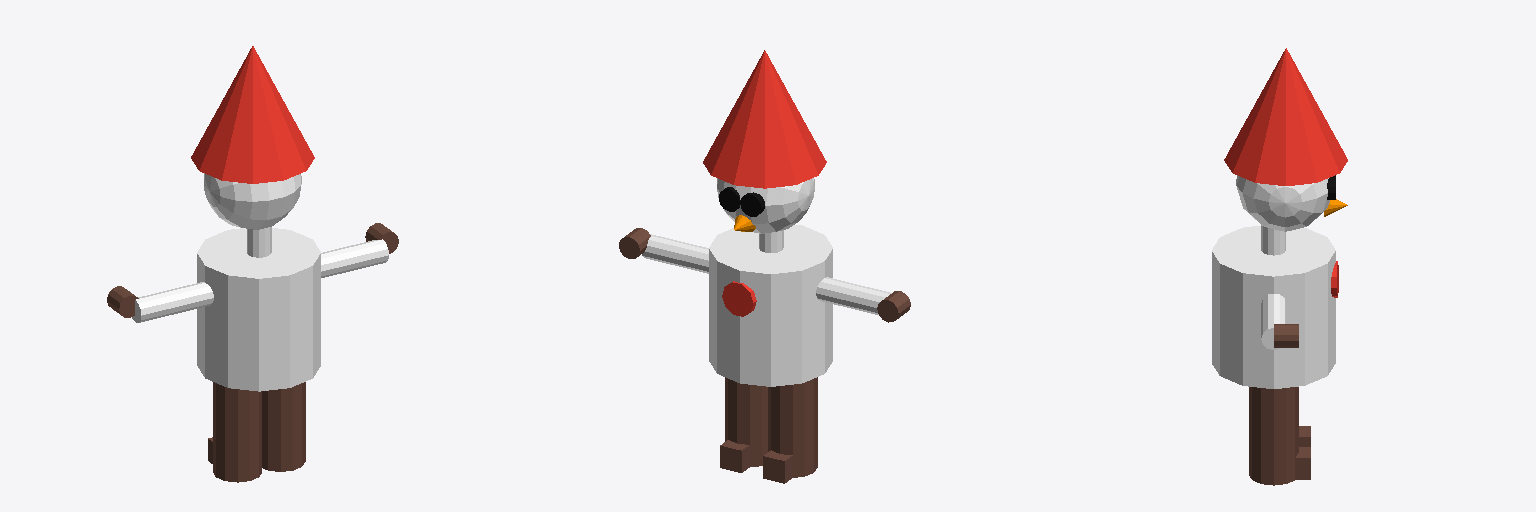
The picture shows the model from 3 angles: view 1: azimuth 30°, elevation 25°; view 2: azimuth 150°, elevation 25°; view 3: azimuth 270°, elevation 25°; orthographic projection.
Visible parts, largest first — view 1: group[number redacted], group[number redacted], group[number redacted], group[number redacted], group[number redacted], group[number redacted], group[number redacted], group[number redacted], group[number redacted], group[number redacted]; view 2: group[number redacted], group[number redacted], group[number redacted], group[number redacted], group[number redacted], group[number redacted], group[number redacted], group[number redacted], group[number redacted], group[number redacted], group[number redacted], group[number redacted]; view 3: group[number redacted], group[number redacted], group[number redacted], group[number redacted], group[number redacted], group[number redacted], group[number redacted].
Part boxes in pixels (bbox=[...]): group[number redacted]: bbox=[197, 228, 320, 391]; group[number redacted]: bbox=[191, 46, 314, 183]; group[number redacted]: bbox=[213, 382, 261, 482]; group[number redacted]: bbox=[204, 173, 301, 229]; group[number redacted]: bbox=[262, 382, 305, 471]; group[number redacted]: bbox=[132, 282, 213, 322]; group[number redacted]: bbox=[321, 239, 388, 277]; group[number redacted]: bbox=[247, 227, 271, 257]; group[number redacted]: bbox=[107, 286, 138, 317]; group[number redacted]: bbox=[365, 223, 398, 253]; group[number redacted]: bbox=[709, 225, 832, 386]; group[number redacted]: bbox=[703, 50, 826, 188]; group[number redacted]: bbox=[768, 377, 817, 477]; group[number redacted]: bbox=[725, 377, 767, 466]; group[number redacted]: bbox=[717, 178, 814, 233]; group[number redacted]: bbox=[816, 277, 891, 314]; group[number redacted]: bbox=[642, 234, 708, 273]; group[number redacted]: bbox=[722, 281, 756, 316]; group[number redacted]: bbox=[763, 450, 792, 483]; group[number redacted]: bbox=[720, 440, 749, 472]; group[number redacted]: bbox=[877, 291, 910, 322]; group[number redacted]: bbox=[619, 228, 650, 258]; group[number redacted]: bbox=[1212, 226, 1335, 388]; group[number redacted]: bbox=[1224, 48, 1347, 185]; group[number redacted]: bbox=[1249, 387, 1298, 485]; group[number redacted]: bbox=[1236, 175, 1329, 231]; group[number redacted]: bbox=[1261, 294, 1285, 349]; group[number redacted]: bbox=[1261, 225, 1285, 255]; group[number redacted]: bbox=[1274, 324, 1298, 347].
Bounding box in the file's own units: 0.26 × 0.37 × 0.11.